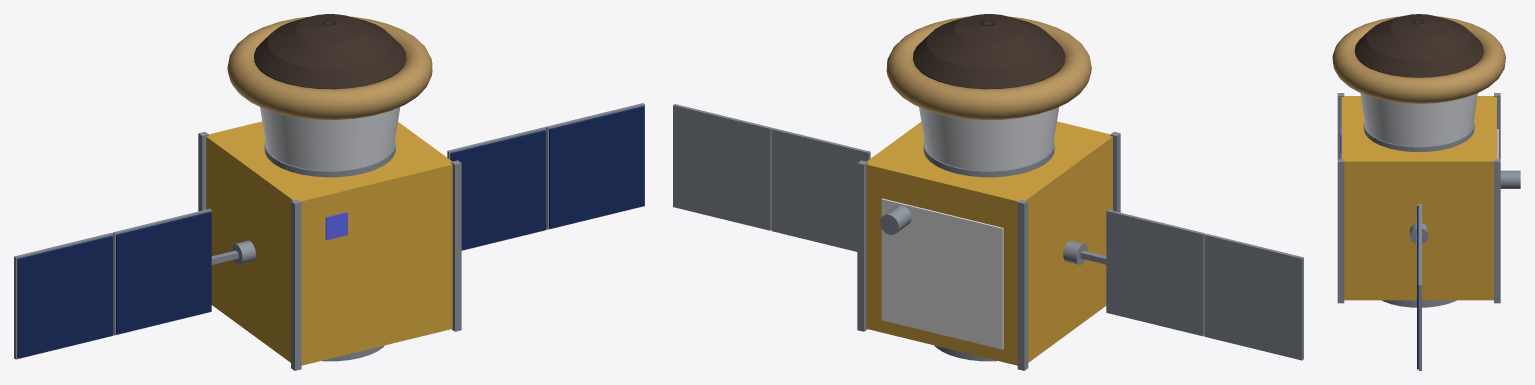
The model's file is SP-XTL.glb.
3 views of the same model, side by side, from view 1: azimuth 30°, elevation 25°; view 2: azimuth 150°, elevation 25°; view 3: azimuth 270°, elevation 25° (orthographic). The views are drawn at different scales.
Parts seen in each view (by area): view 1: service_module_structure, solar_panel_+X2, solar_panel_-X1, solar_panel_-X2, nose, solar_panel_+X1, heat_shield_packed, capsule_backshell, corner_rail_-X-Y, corner_rail_+X-Y, separation_interface, panel_frame_-X2 (+5 smaller); view 2: service_module_structure, radiator_+Y_face, panel_frame_-X2, panel_frame_+X2, panel_frame_-X1, panel_frame_+X1, nose, heat_shield_packed, capsule_backshell, corner_rail_-X+Y, corner_rail_+X+Y, separation_interface (+2 smaller); view 3: service_module_structure, nose, heat_shield_packed, capsule_backshell, corner_rail_+X-Y, corner_rail_+X+Y, separation_interface, panel_frame_+X2, launch_separation_ring, star_tracker, corner_rail_-X-Y, corner_rail_-X+Y (+2 smaller).
Part boxes in pixels (<box>): service_module_structure: <box>206,121,452,365</box>; solar_panel_+X2: <box>549,106,644,228</box>; solar_panel_-X1: <box>116,212,211,334</box>; solar_panel_-X2: <box>17,236,112,358</box>; nose: <box>254,14,406,89</box>; solar_panel_+X1: <box>450,130,545,250</box>; heat_shield_packed: <box>227,16,432,120</box>; capsule_backshell: <box>260,107,400,170</box>; corner_rail_-X-Y: <box>291,199,301,370</box>; corner_rail_+X-Y: <box>451,160,461,331</box>; separation_interface: <box>264,140,395,177</box>; panel_frame_-X2: <box>14,233,113,359</box>; service_module_structure: <box>866,121,1112,365</box>; radiator_+Y_face: <box>881,198,1003,349</box>; panel_frame_-X2: <box>1204,233,1303,360</box>; panel_frame_+X2: <box>673,104,772,230</box>; panel_frame_-X1: <box>1106,209,1205,336</box>; panel_frame_+X1: <box>771,128,870,251</box>; nose: <box>913,14,1065,89</box>; heat_shield_packed: <box>886,16,1091,120</box>; capsule_backshell: <box>919,107,1059,170</box>; corner_rail_-X+Y: <box>1017,199,1028,370</box>; corner_rail_+X+Y: <box>857,160,867,331</box>; separation_interface: <box>923,140,1054,177</box>; service_module_structure: <box>1341,96,1496,300</box>; nose: <box>1354,14,1483,77</box>; heat_shield_packed: <box>1332,16,1505,103</box>; capsule_backshell: <box>1360,93,1477,146</box>; corner_rail_+X-Y: <box>1337,159,1344,303</box>; corner_rail_+X+Y: <box>1494,159,1500,303</box>; separation_interface: <box>1363,121,1474,152</box>; panel_frame_+X2: <box>1418,244,1421,370</box>; launch_separation_ring: <box>1382,300,1456,307</box>; star_tracker: <box>1500,170,1520,188</box>; corner_rail_-X-Y: <box>1337,93,1344,159</box>; corner_rail_-X+Y: <box>1494,93,1500,159</box>.
Bounding box in the file's own units: 2.34 × 1.11 × 0.716.
